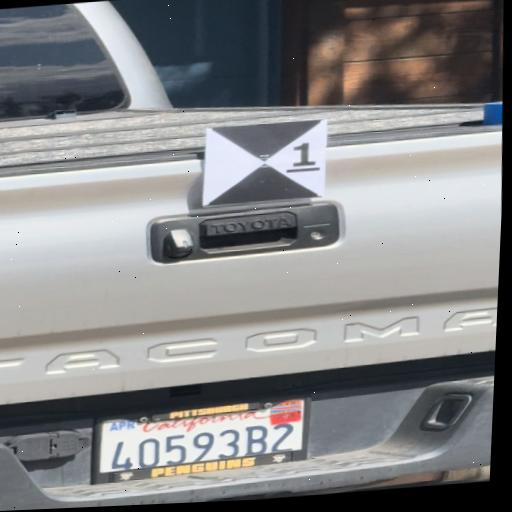target1: (202, 119, 328, 206)
